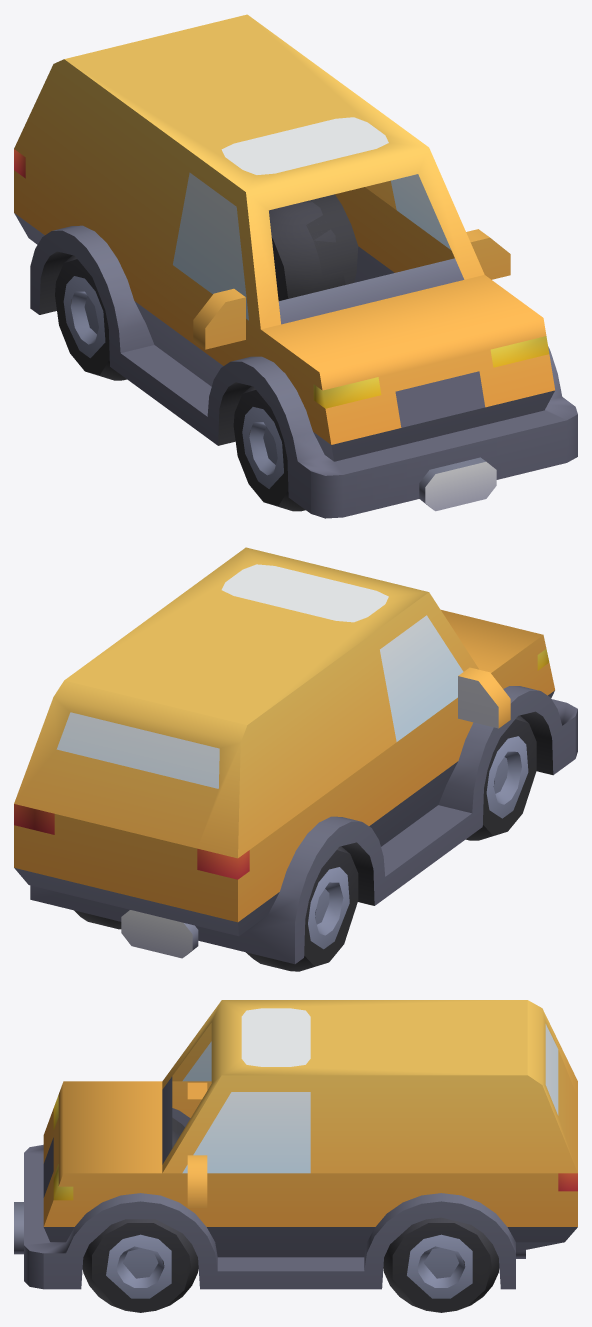
File: suv-luxury.glb
The picture shows the model from 3 angles, top to bottom: view 1: azimuth 30°, elevation 25°; view 2: azimuth 150°, elevation 25°; view 3: azimuth 270°, elevation 25°; orthographic projection. The views are drawn at different scales.
Visible parts, largest first — view 1: wheel-back-right; view 2: wheel-back-right; view 3: wheel-back-right.
Part boxes in pixels (x1,y1,x2,y2): wheel-back-right: (14,14,577,518); wheel-back-right: (14,547,577,971); wheel-back-right: (14,1000,577,1312).
Size of the model in its own units: 2.25 by 1.95 by 4.28.
Materials: 1 (1 with a texture image).
